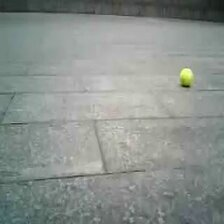tennis: (179, 67, 193, 86)
